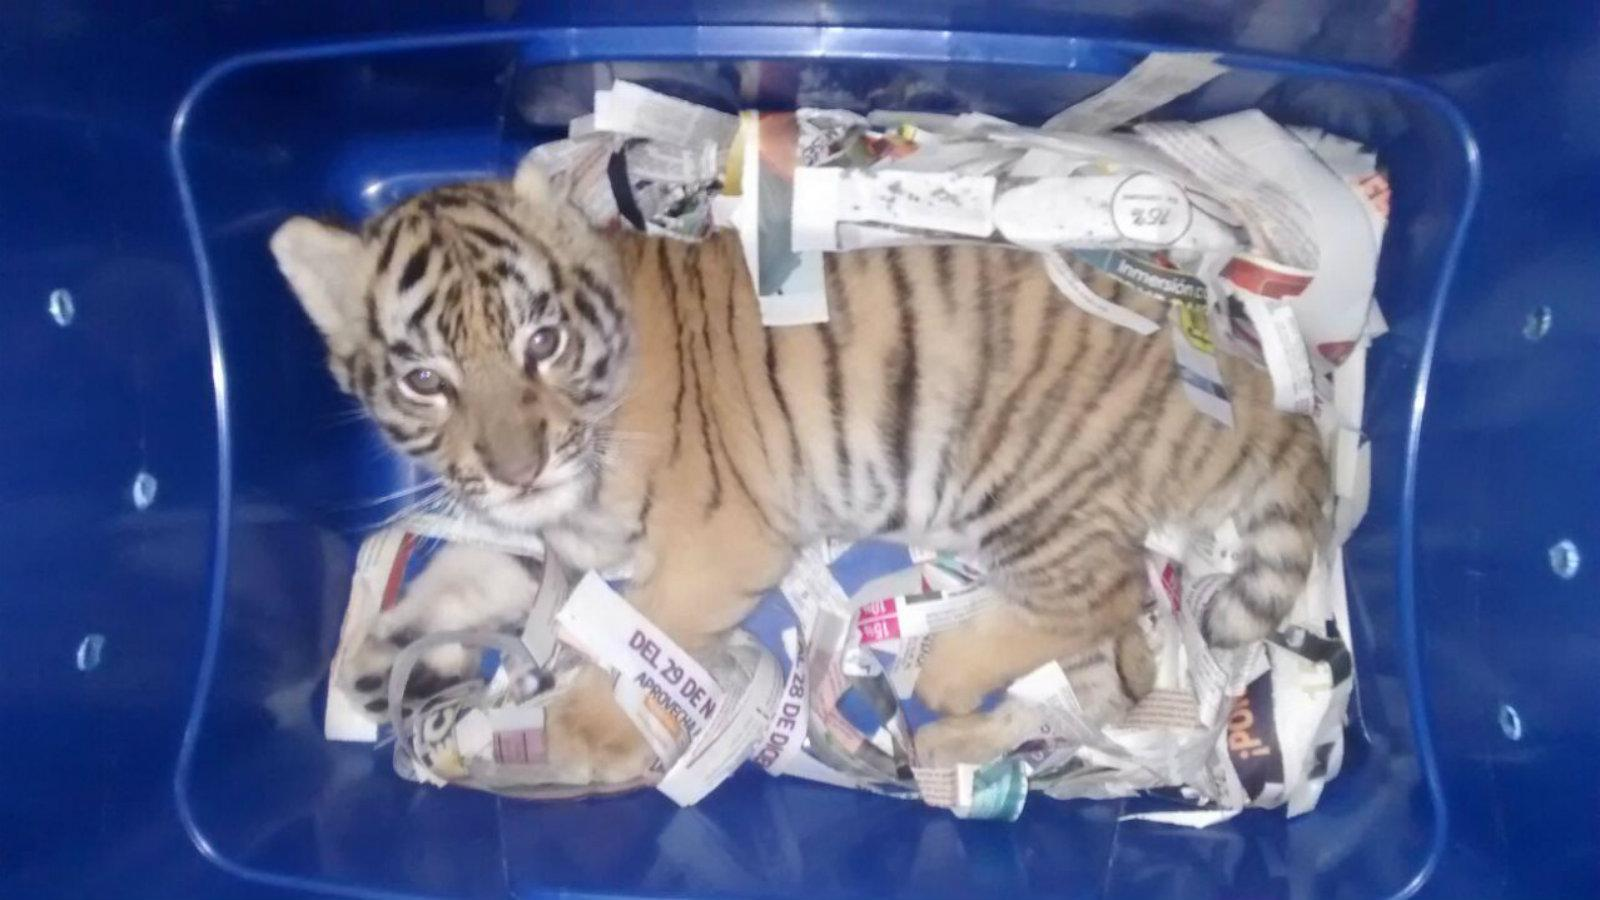Tigrew: (255, 116, 1380, 866)
